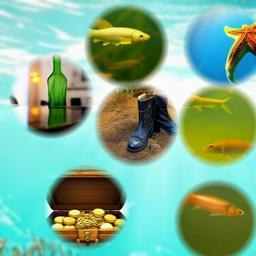not an animal: (125, 92, 179, 153), (41, 51, 77, 120)
treasure: (43, 165, 129, 247)
